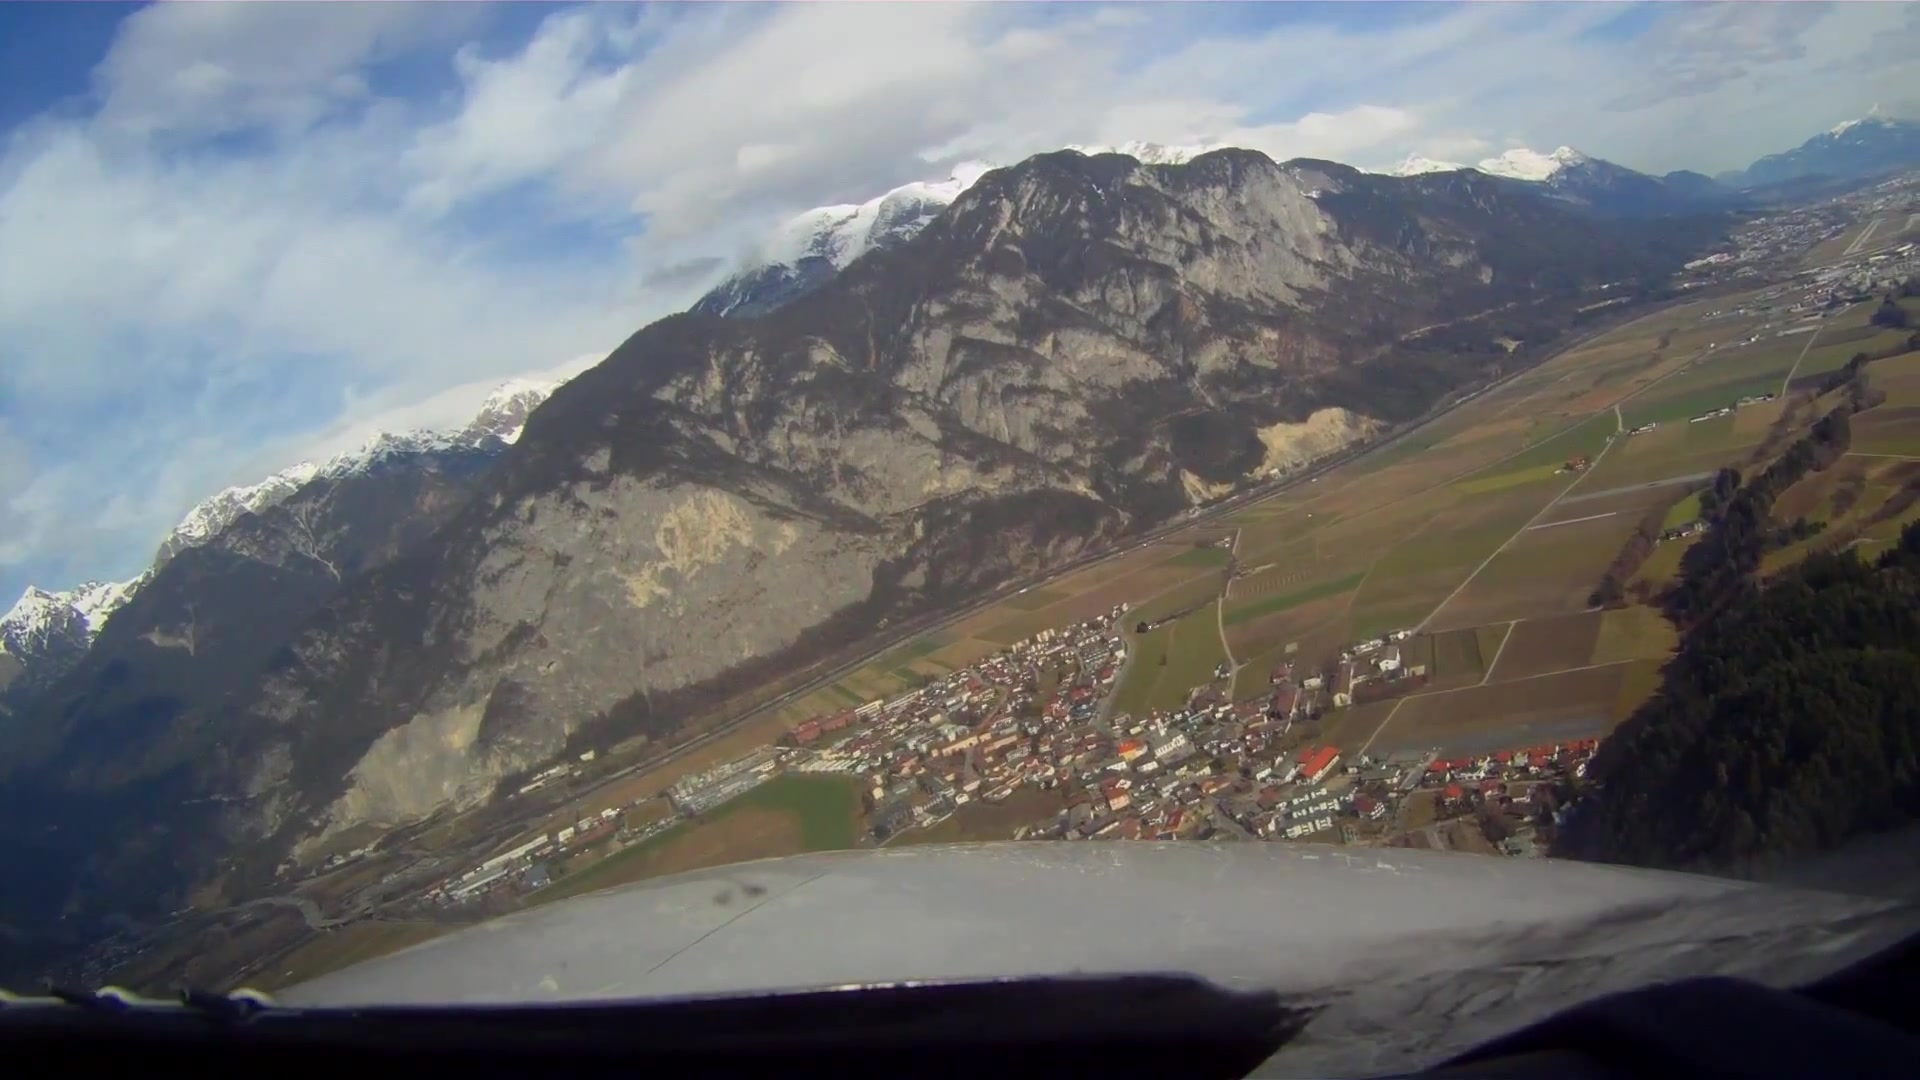runway: (1840, 218, 1883, 258)
